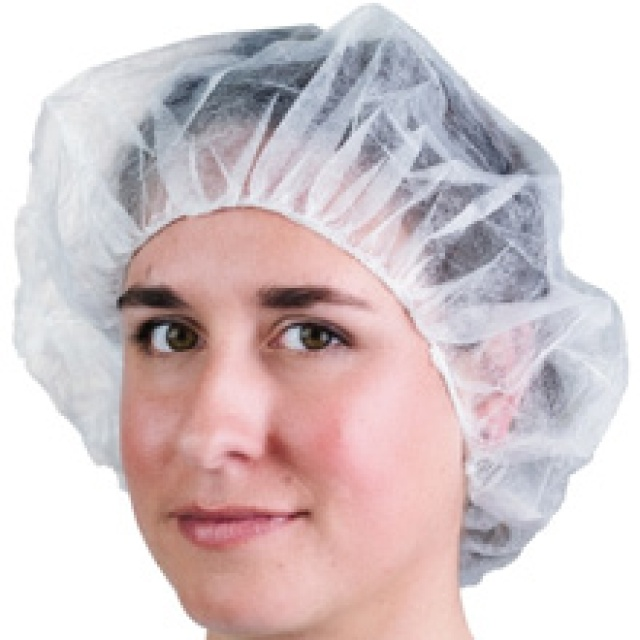Hairnet: (58, 67, 506, 212)
